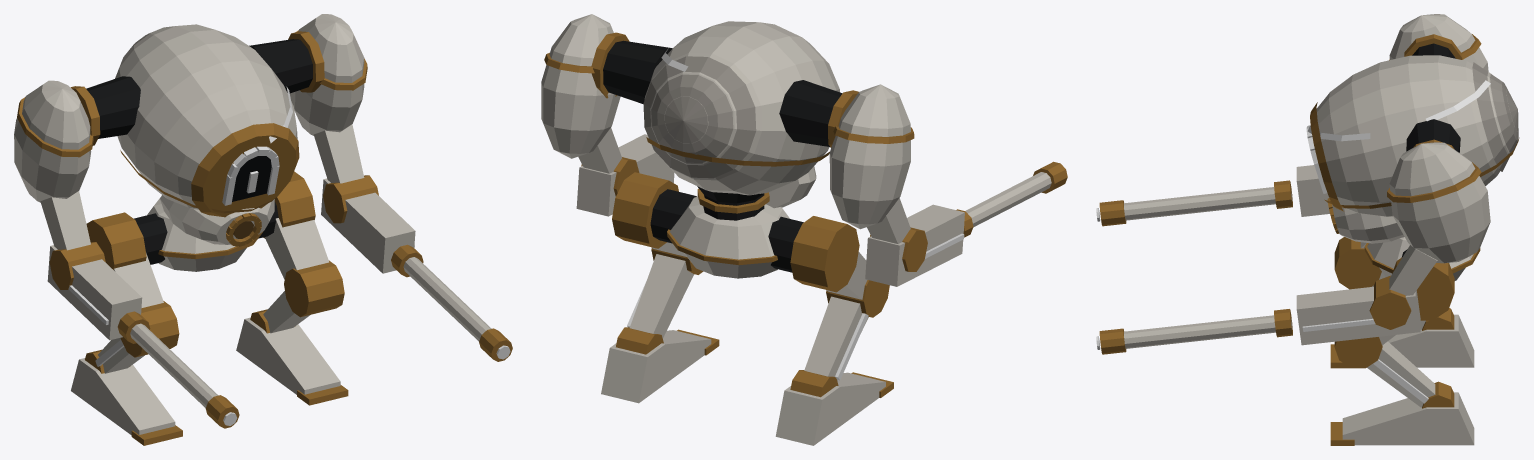
File: striker.glb
3 renders of one model, left to right at view 1: azimuth 30°, elevation 25°; view 2: azimuth 150°, elevation 25°; view 3: azimuth 270°, elevation 25°, orthographic. The views are drawn at different scales.
Visible parts, largest first — view 1: body; view 2: body; view 3: body.
Boxes of the visible parts, box(x1,y1,x2,y2) form: body: box(14, 14, 512, 445); body: box(541, 14, 1067, 445); body: box(1096, 14, 1519, 445).
Bounding box in the file's own units: 4.65 × 4.63 × 5.3.
